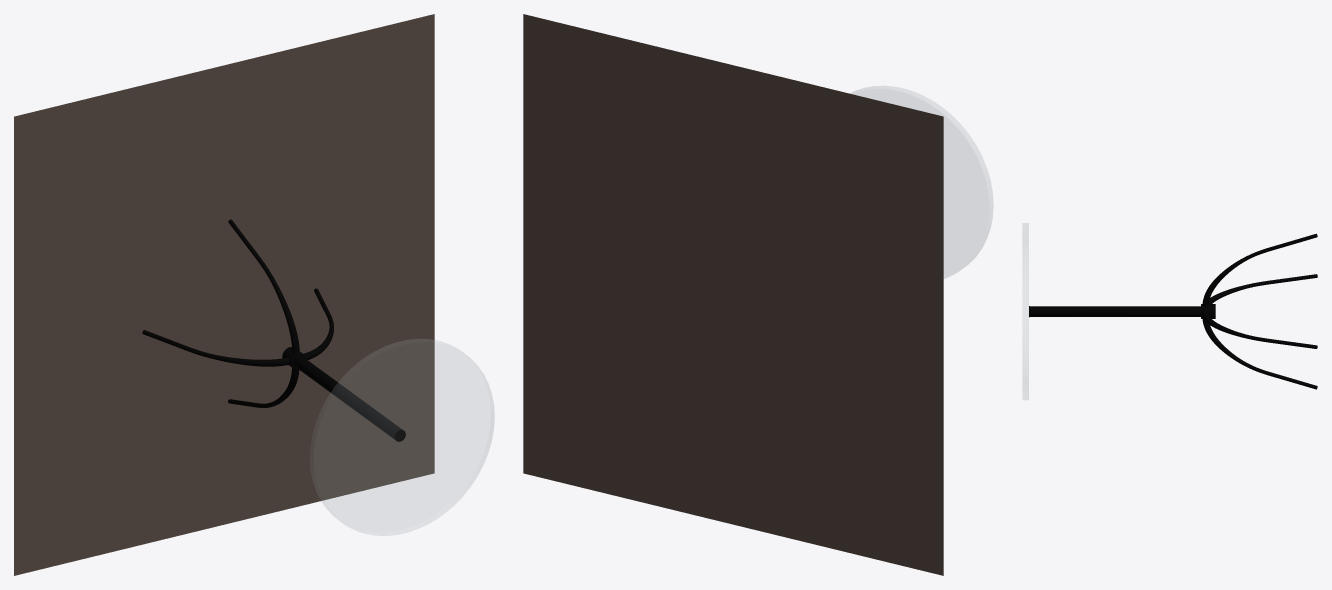
File: Furniture14.obj
The picture shows the model from 3 angles, left to right: view 1: azimuth 30°, elevation 25°; view 2: azimuth 150°, elevation 25°; view 3: azimuth 270°, elevation 25°; orthographic projection. The views are drawn at different scales.
Parts seen in each view (by area): view 1: Plane01, Cylinder03, Cylinder01, Loft03_pivot, Loft02_pivot; view 2: Plane01, Cylinder03; view 3: Cylinder01, Cylinder03, Loft02_pivot, Loft04_pivot, Loft01_pivot, Loft03_pivot.
Boxes of the visible parts, x1,y1,x2,y2 form: Plane01: (14,14,434,575); Cylinder03: (310,339,494,535); Cylinder01: (293,355,401,439); Loft03_pivot: (145,331,289,366); Loft02_pivot: (229,221,299,353); Plane01: (523,14,943,575); Cylinder03: (850,86,993,278); Cylinder01: (1030,306,1200,316); Cylinder03: (1022,223,1028,399); Loft02_pivot: (1202,234,1314,306); Loft04_pivot: (1202,319,1314,388); Loft01_pivot: (1202,311,1314,348); Loft03_pivot: (1209,274,1314,303).
Size of the model in its own units: 455 by 475 by 328.
